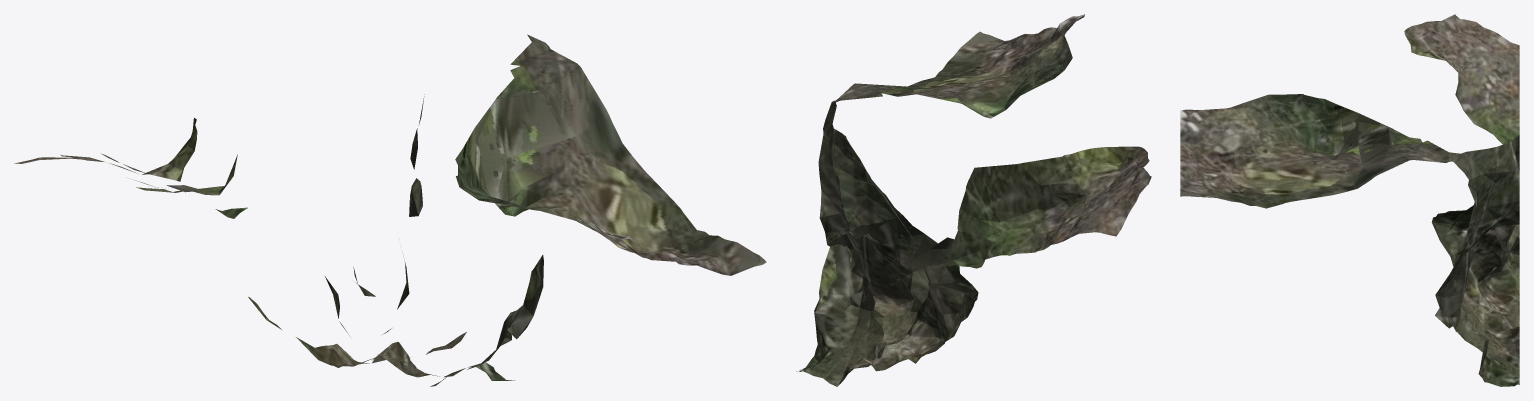
3 renders of one model, left to right at view 1: azimuth 30°, elevation 25°; view 2: azimuth 150°, elevation 25°; view 3: azimuth 270°, elevation 25°, orthographic. The views are drawn at different scales.
Bounding box in the file's own units: 2.95 × 2.22 × 2.95.
Materials: 2 (2 with a texture image).
